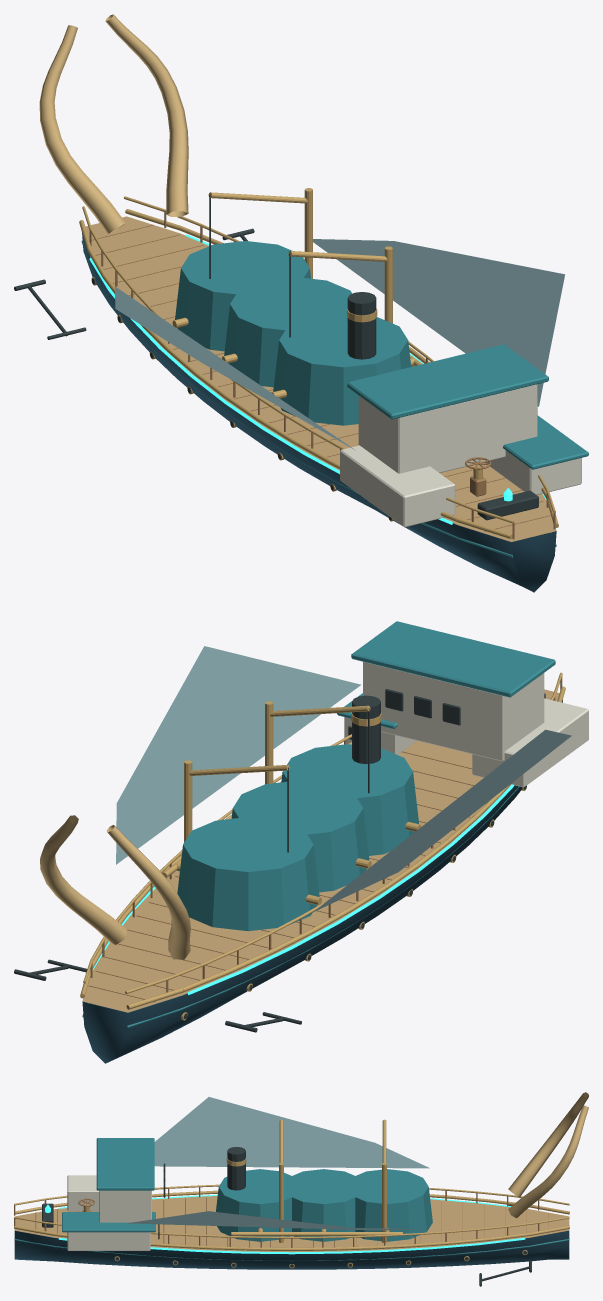
File: premium_trade_giant.glb
3 renders of one model, top to bottom at view 1: azimuth 30°, elevation 25°; view 2: azimuth 150°, elevation 25°; view 3: azimuth 270°, elevation 25°, orthographic. The views are drawn at different scales.
Visible parts, largest first — view 1: premium_trade_giant; view 2: premium_trade_giant; view 3: premium_trade_giant.
Part boxes in pixels (bbox=[...]): premium_trade_giant: bbox=[14, 14, 588, 592]; premium_trade_giant: bbox=[14, 621, 588, 1063]; premium_trade_giant: bbox=[14, 1092, 588, 1286].
Bounding box in the file's own units: 10.24 × 6.71 × 21.77.
